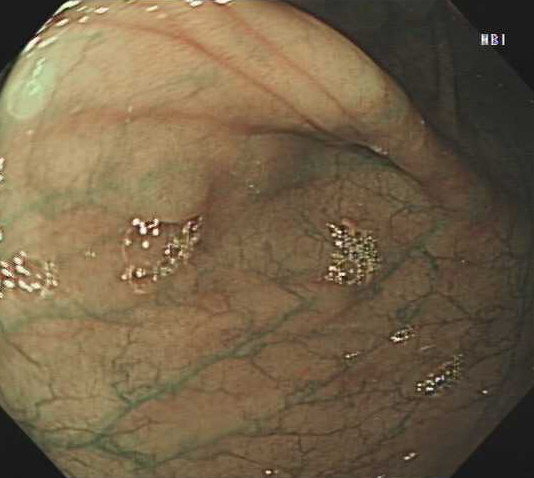adenoma: (104, 141, 215, 225)
